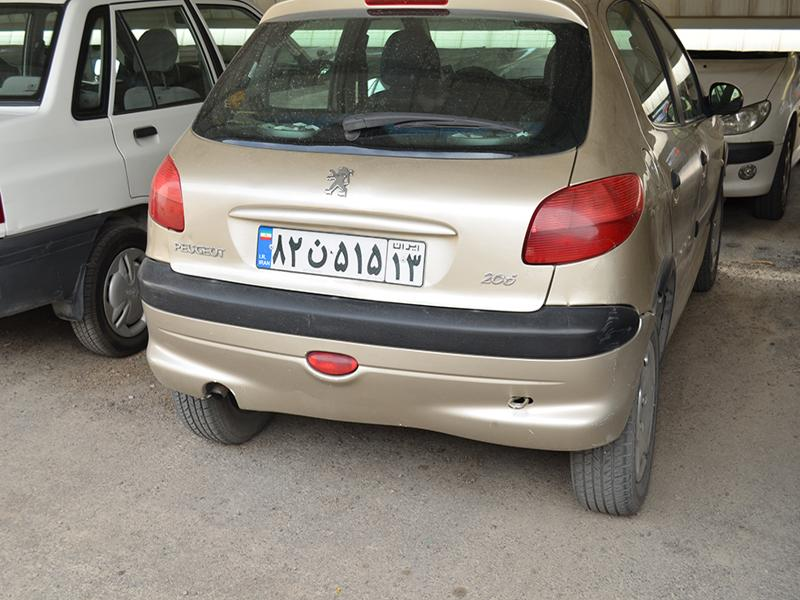Plate: (249, 219, 437, 288)
